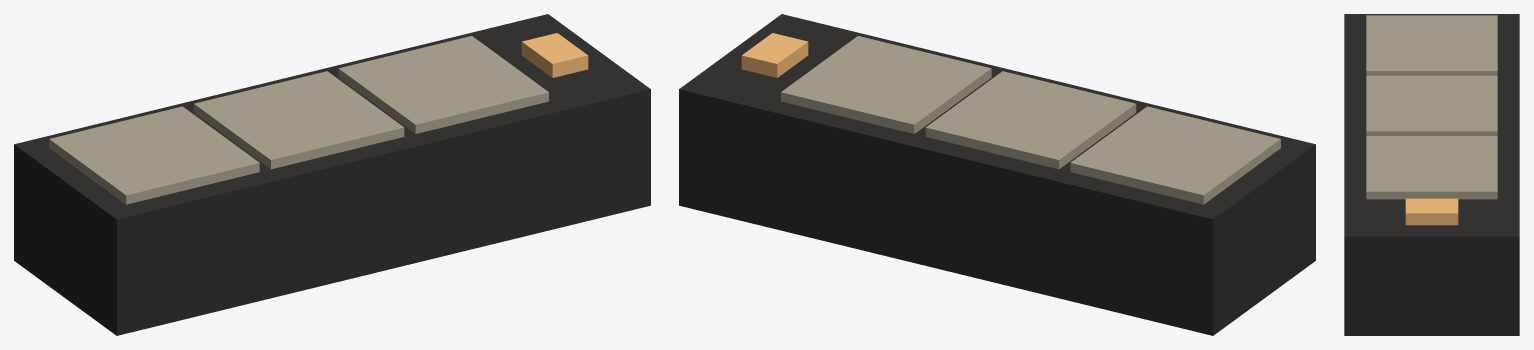
The model's file is power-strip-desk.glb.
3 renders of one model, left to right at view 1: azimuth 30°, elevation 25°; view 2: azimuth 150°, elevation 25°; view 3: azimuth 270°, elevation 25°, orthographic. The views are drawn at different scales.
Parts seen in each view (by area): view 1: plastic-dark, plastic-light, emissive-warm; view 2: plastic-dark, plastic-light, emissive-warm; view 3: plastic-dark, plastic-light, emissive-warm.
Boxes of the visible parts, box(x1,y1,x2,y2) form: plastic-dark: box(14, 14, 650, 335); plastic-light: box(49, 36, 548, 204); emissive-warm: box(521, 33, 588, 77); plastic-dark: box(679, 14, 1315, 335); plastic-light: box(781, 36, 1280, 204); emissive-warm: box(741, 33, 808, 77); plastic-dark: box(1344, 14, 1519, 335); plastic-light: box(1366, 15, 1497, 199); emissive-warm: box(1405, 198, 1458, 225).
Size of the model in its own units: 0.24 by 0.056 by 0.08.
